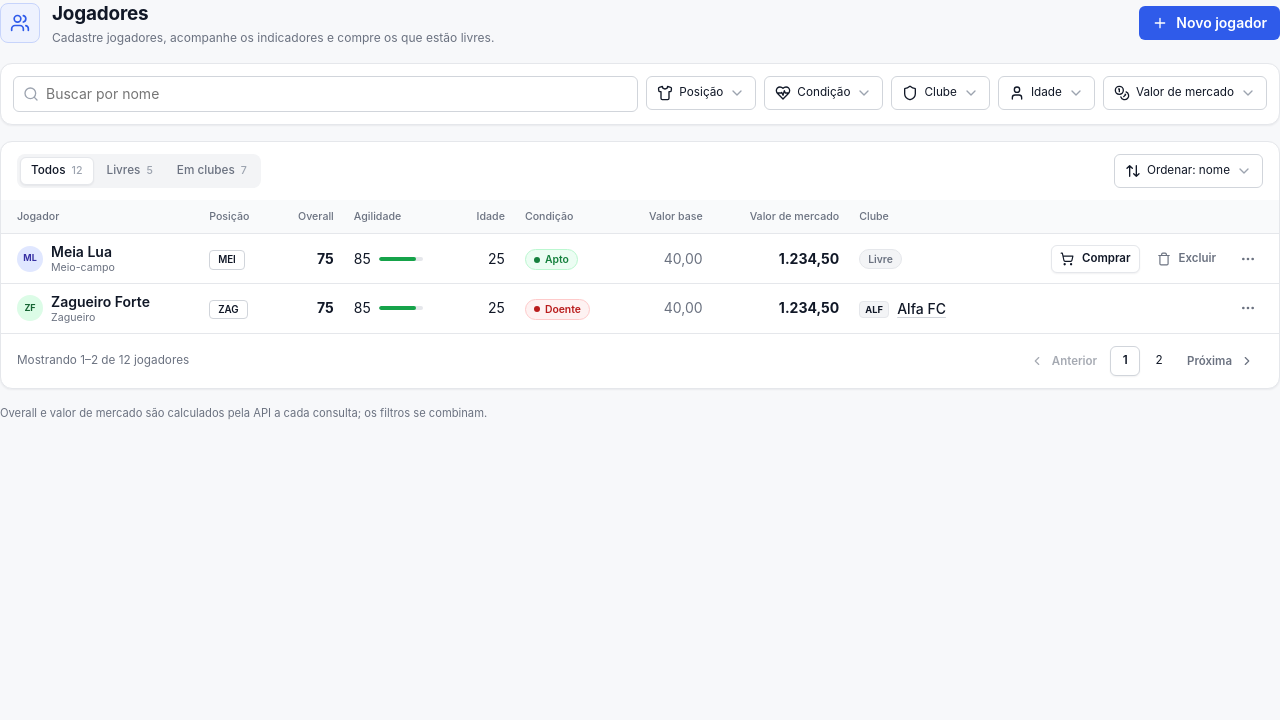
PlayersPage actions › edits a player with club keeping the position locked and shows the API refusal
The width and height of the screenshot is (1280, 720).
Expected: the button "Meia Lua" is shown, 51,243 -> 112,261
Click the button named "Ações de Zagueiro Forte".
click(1248, 308)  # box 1233,294 -> 1263,324
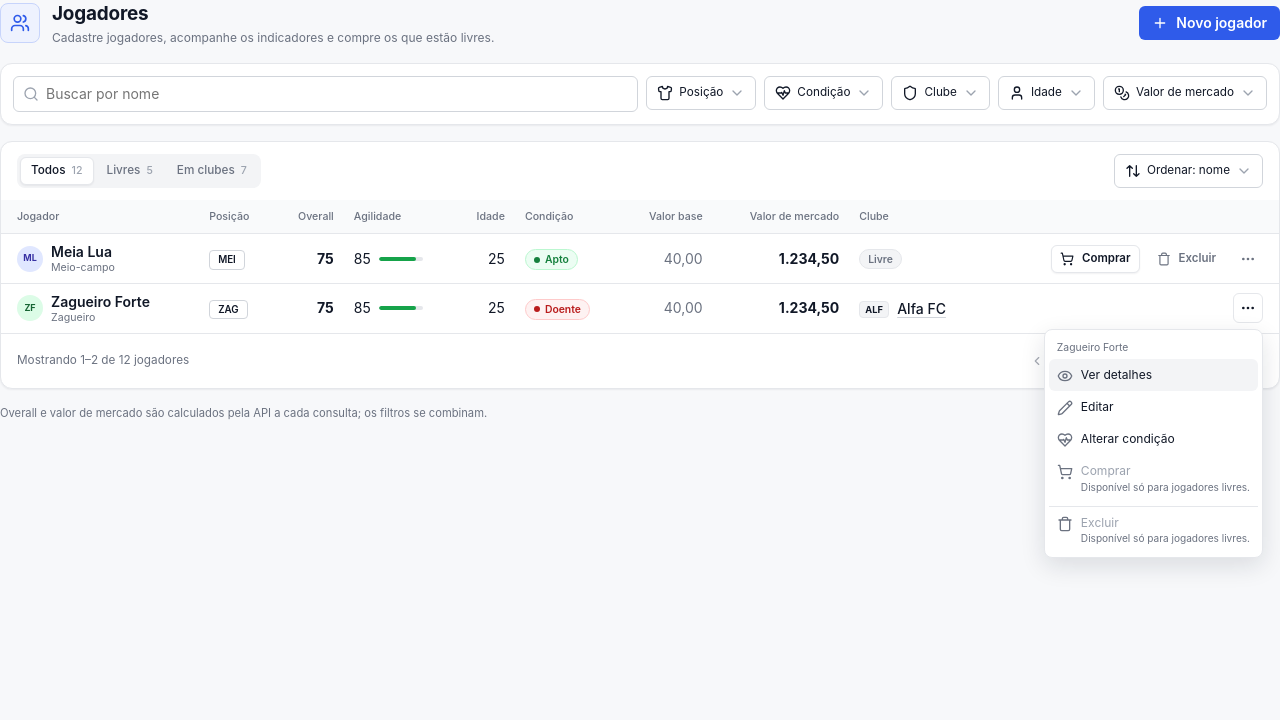
Click the menu item "Editar".
click(1153, 408)  # box 1049,392 -> 1258,424
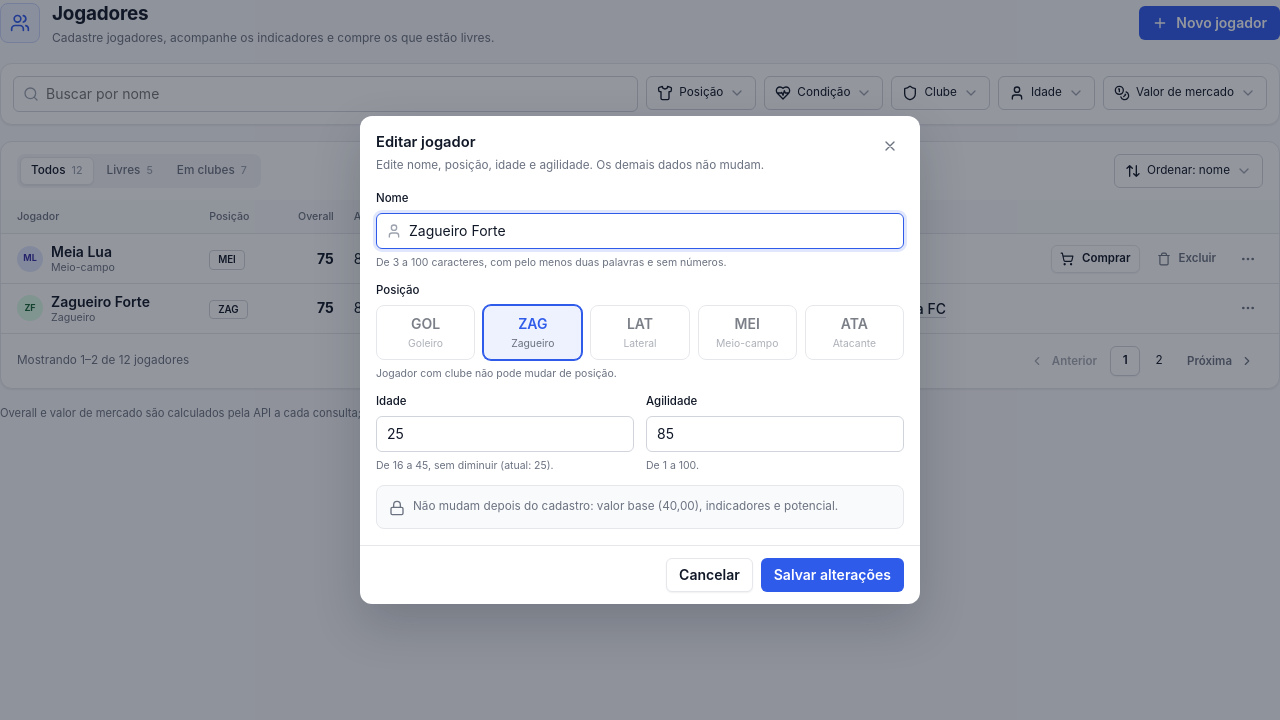
Expected: the radio button labelled "ATA Atacante" is disabled, 805,305 -> 904,360
Expected: the radio button labelled "ZAG Zagueiro" is checked, 483,305 -> 582,360
Replace the text in the number field labelled "Idade" with "20" at (505, 434), box 376,416 -> 634,452
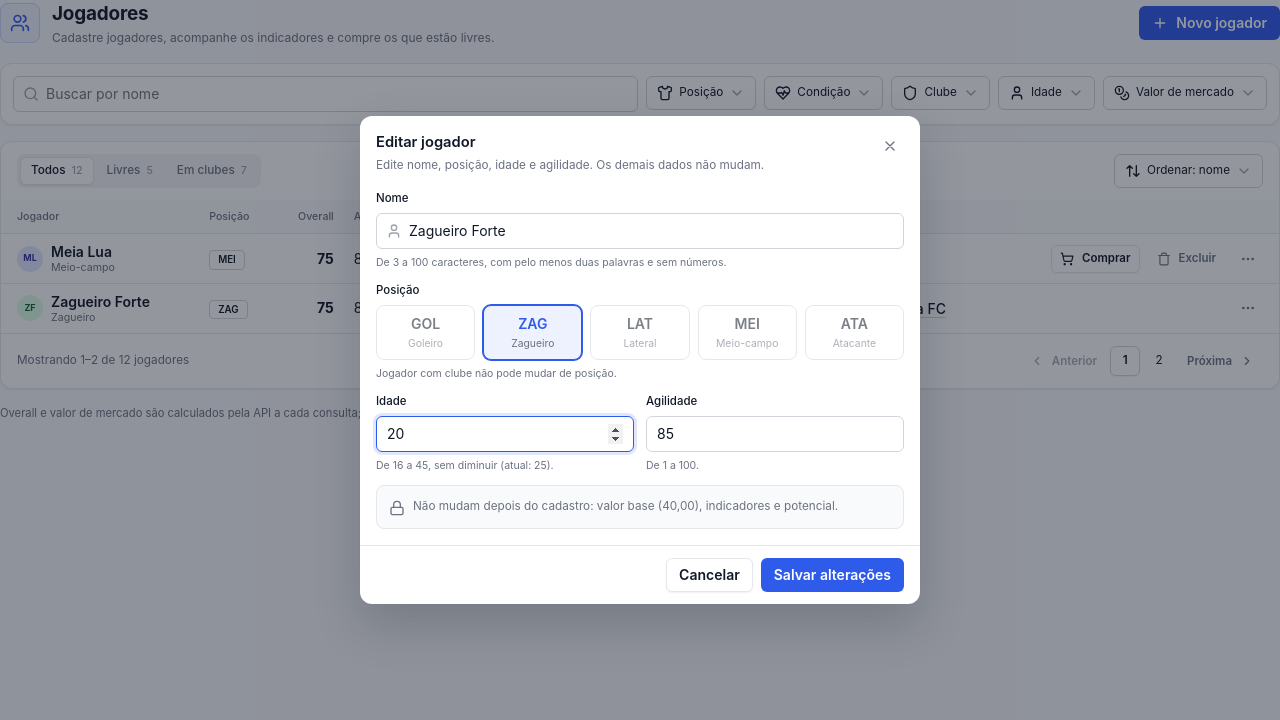
Click the button "Salvar alterações".
click(832, 575)  # box 761,558 -> 904,592
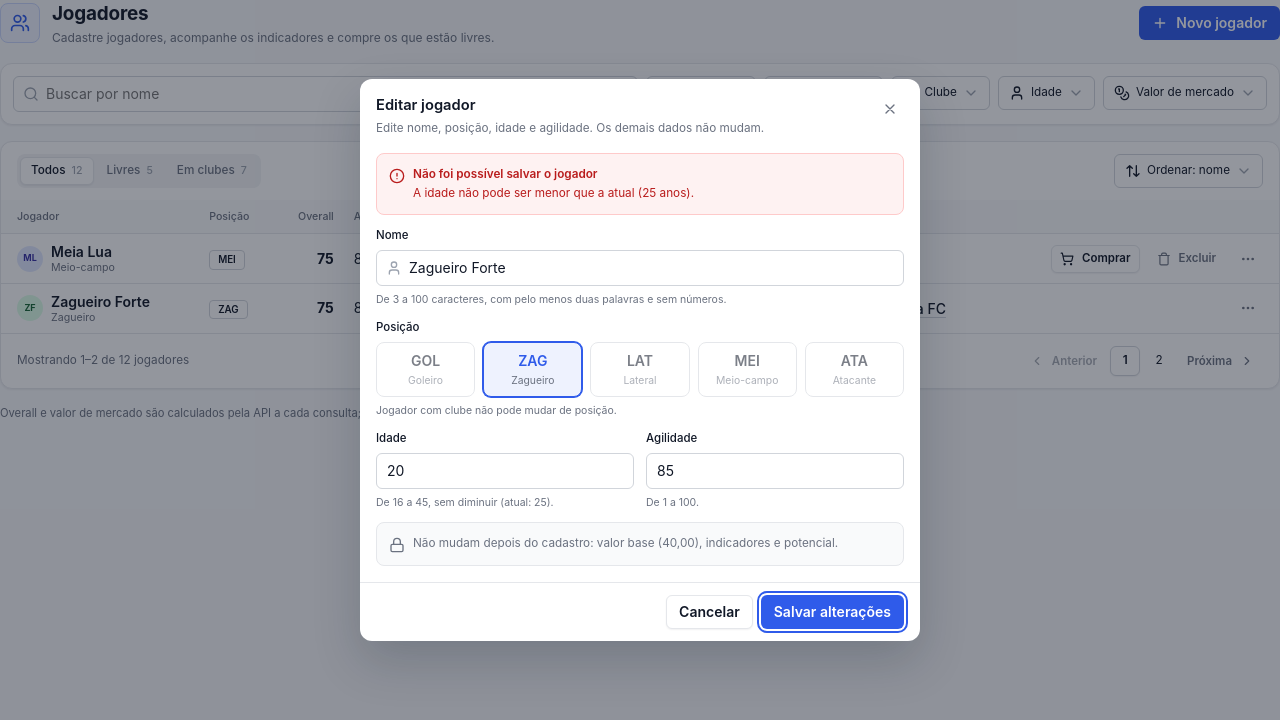
Expected: the message shows "A idade não pode ser menor que a atual (25 anos).", 413,186 -> 694,200
